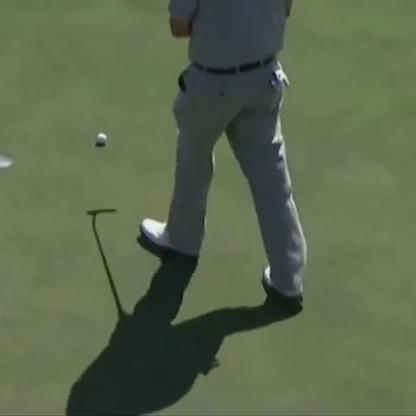golfball: (93, 134, 106, 144)
